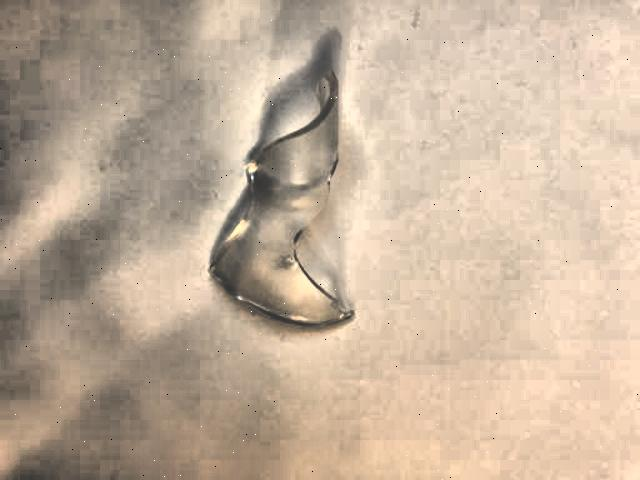Almennt: (170, 58, 376, 380)
